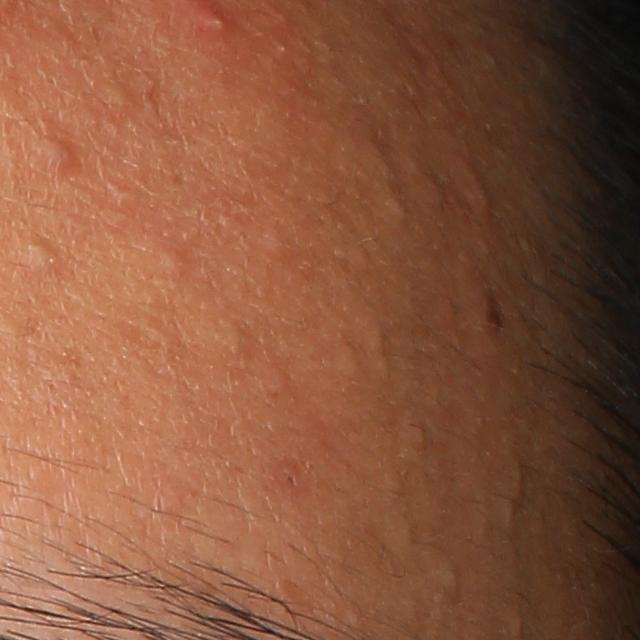comedo: (98, 72, 139, 110), (23, 236, 59, 269), (154, 244, 186, 280), (406, 418, 435, 455), (378, 191, 407, 223)
papule: (30, 128, 80, 170)
